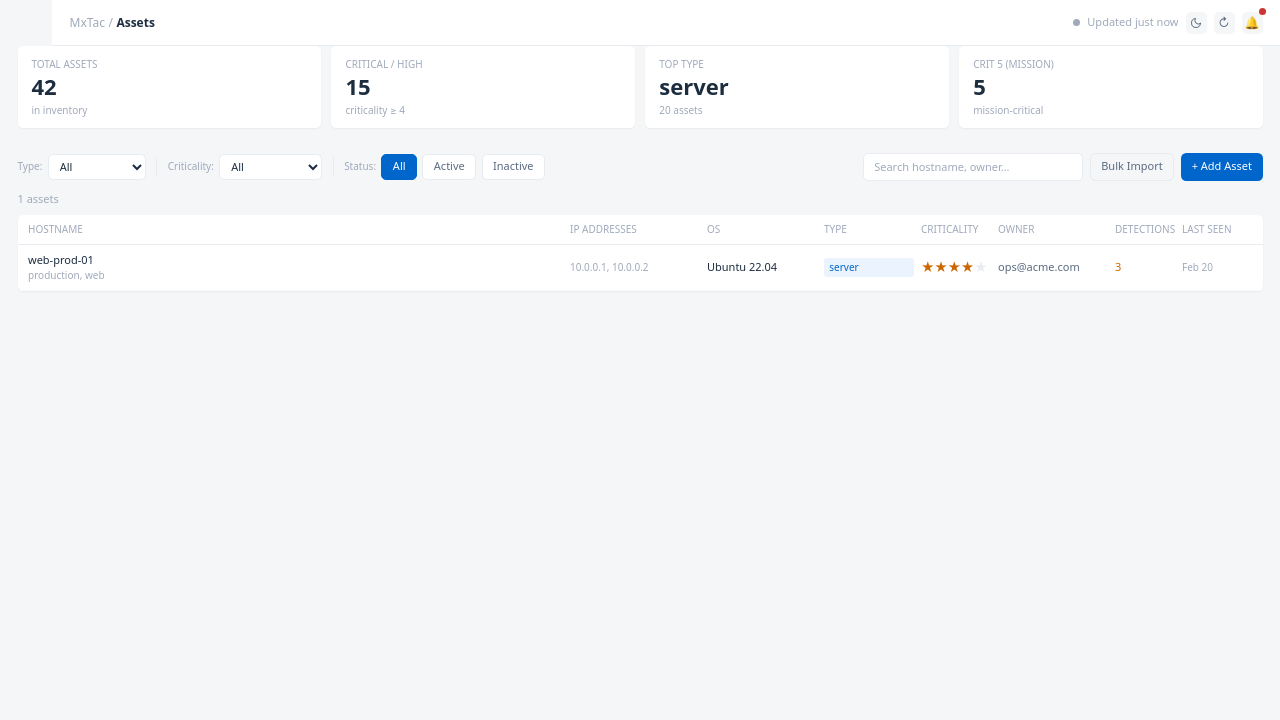
Test case: AssetsPage › Bulk Import modal › clicking "Bulk Import" opens the modal
Expected: the text "web-prod-01" is shown, [28,252,94,266]
Click the button "Bulk Import" at (1132, 166), box [1090,152,1174,180]
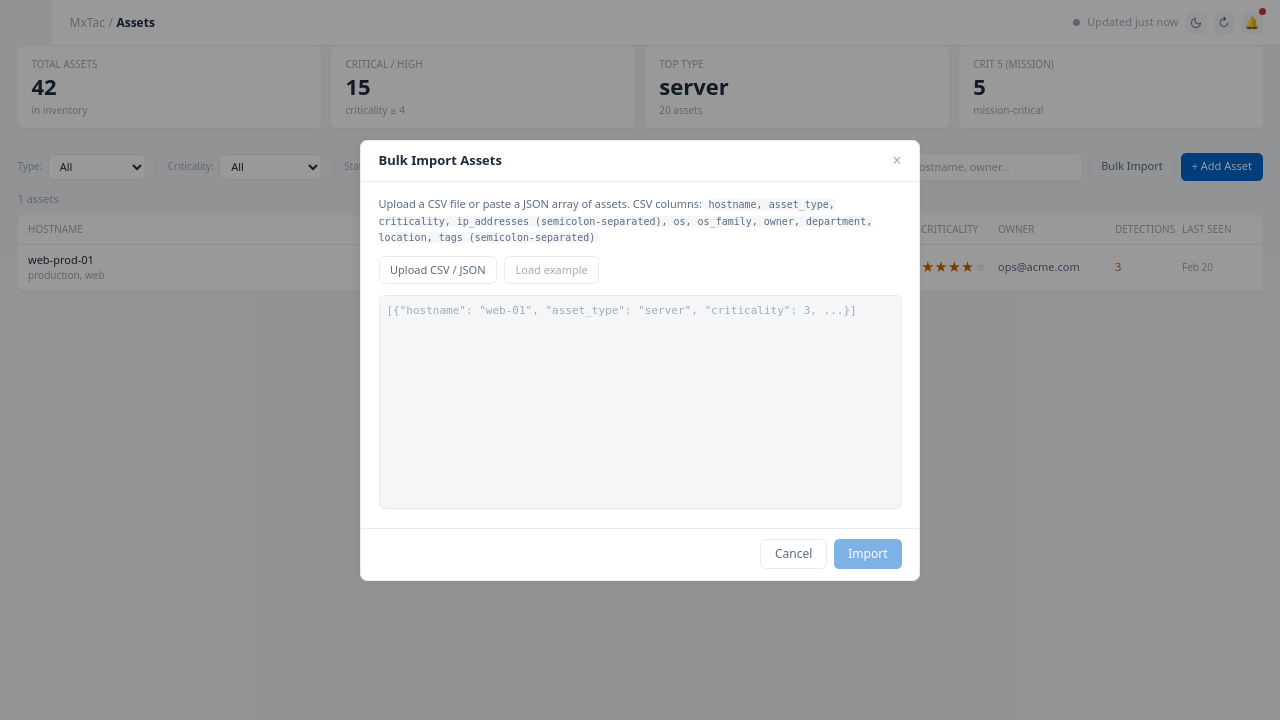
Now the heading "Bulk Import Assets" is shown, box [378,151,502,170]
